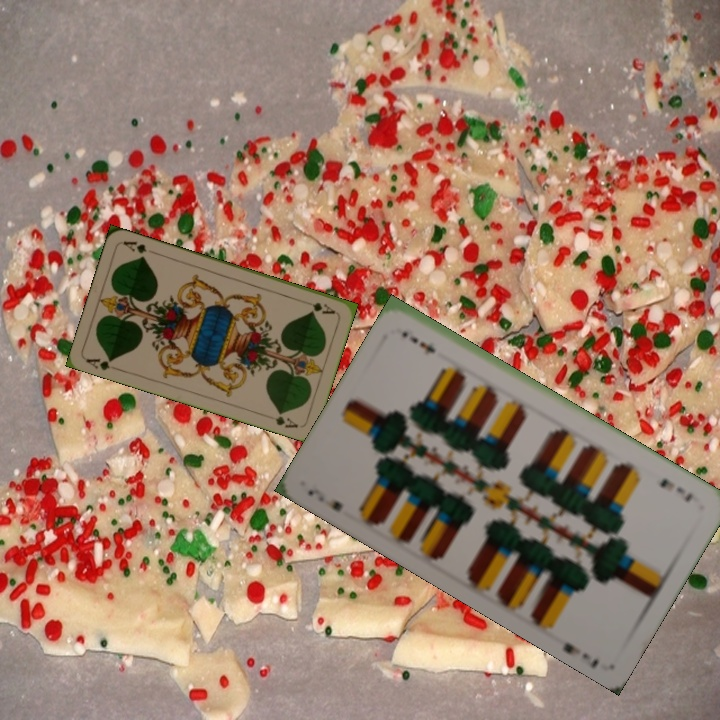E7: (655, 475, 696, 505), (303, 485, 345, 514)
GA: (299, 297, 338, 317), (82, 354, 122, 373)
